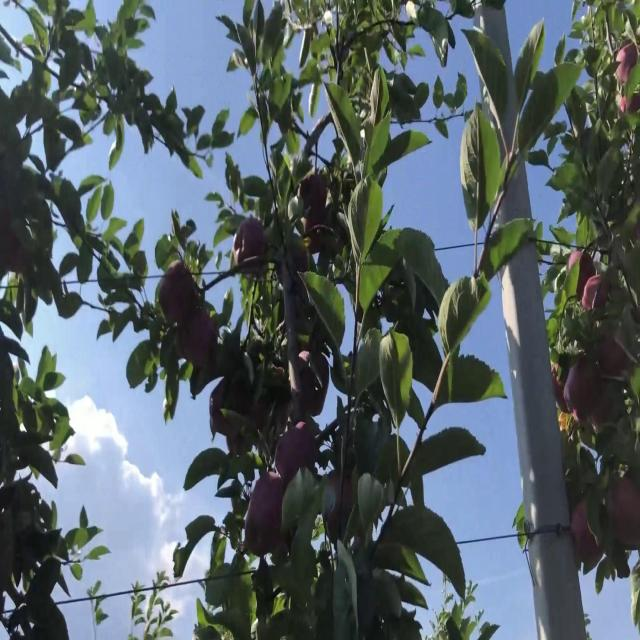apple: (160, 263, 204, 356), (248, 476, 285, 560), (292, 348, 330, 427), (276, 419, 319, 487), (160, 263, 201, 329), (608, 476, 640, 553), (296, 170, 330, 242), (572, 497, 604, 571), (568, 355, 601, 425), (184, 305, 219, 370), (232, 220, 271, 276), (276, 426, 312, 482), (324, 469, 355, 530), (0, 206, 27, 274), (288, 419, 319, 476), (596, 334, 629, 382), (568, 248, 599, 297), (584, 277, 614, 325), (212, 383, 234, 439), (616, 42, 640, 87), (552, 362, 571, 418), (252, 398, 270, 432), (620, 92, 640, 121)
